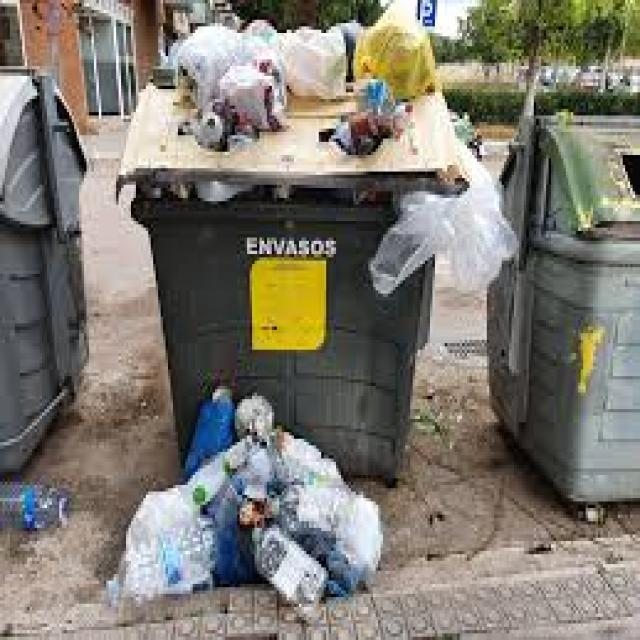garbage: (68, 21, 493, 602)
